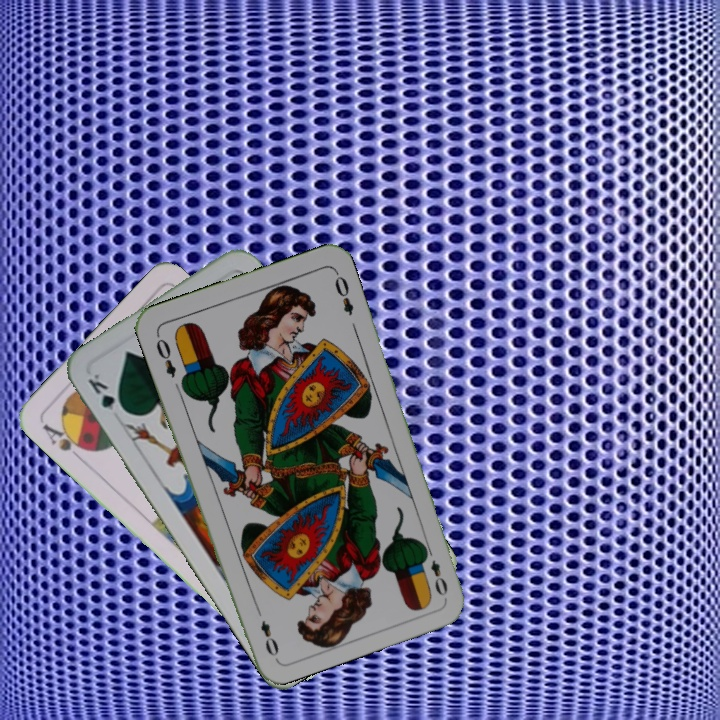EO: (421, 542, 451, 598), (152, 330, 179, 380)
GK: (83, 369, 129, 418)
SA: (38, 420, 92, 454)
